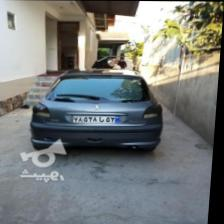plate: (75, 115, 126, 123)
